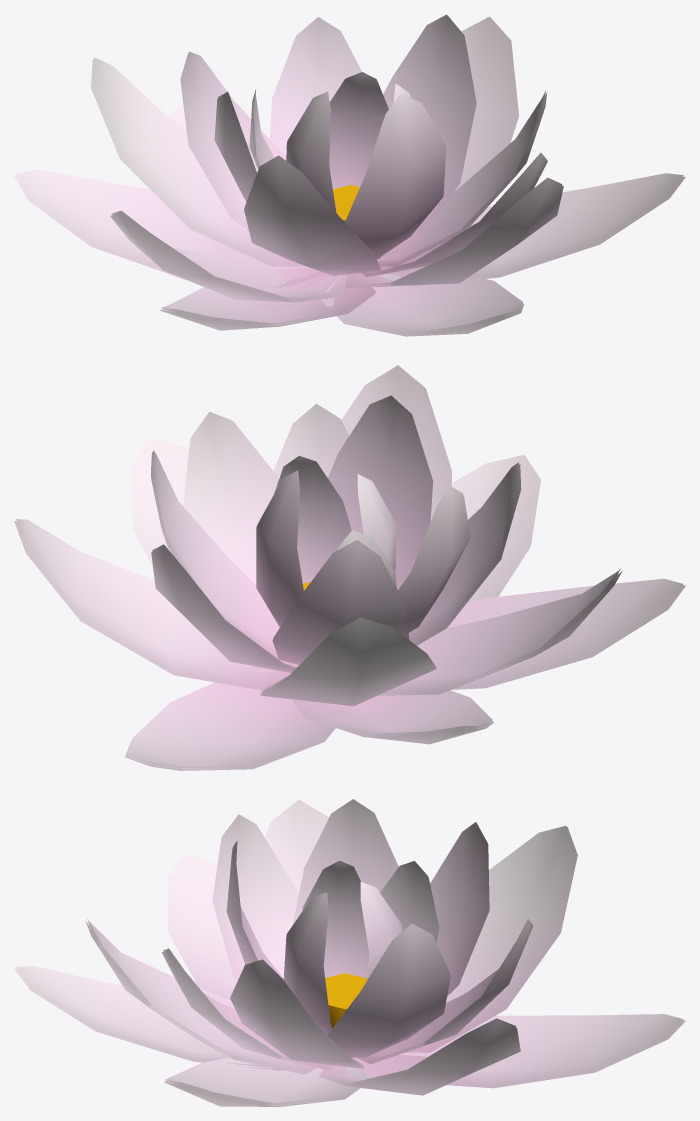
File: SK_Lily_001.FBX
The picture shows the model from 3 angles, top to bottom: view 1: azimuth 30°, elevation 25°; view 2: azimuth 150°, elevation 25°; view 3: azimuth 270°, elevation 25°; orthographic projection. The views are drawn at different scales.
Parts seen in each view (by area): view 1: Line108; view 2: Line108; view 3: Line108.
Boxes of the visible parts, x1,y1,x2,y2 form: Line108: [14, 14, 685, 336]; Line108: [14, 365, 685, 770]; Line108: [14, 799, 685, 1106].
Size of the model in its own units: 70.05 by 31.04 by 81.87.
Materials: 1 (1 with a texture image).
